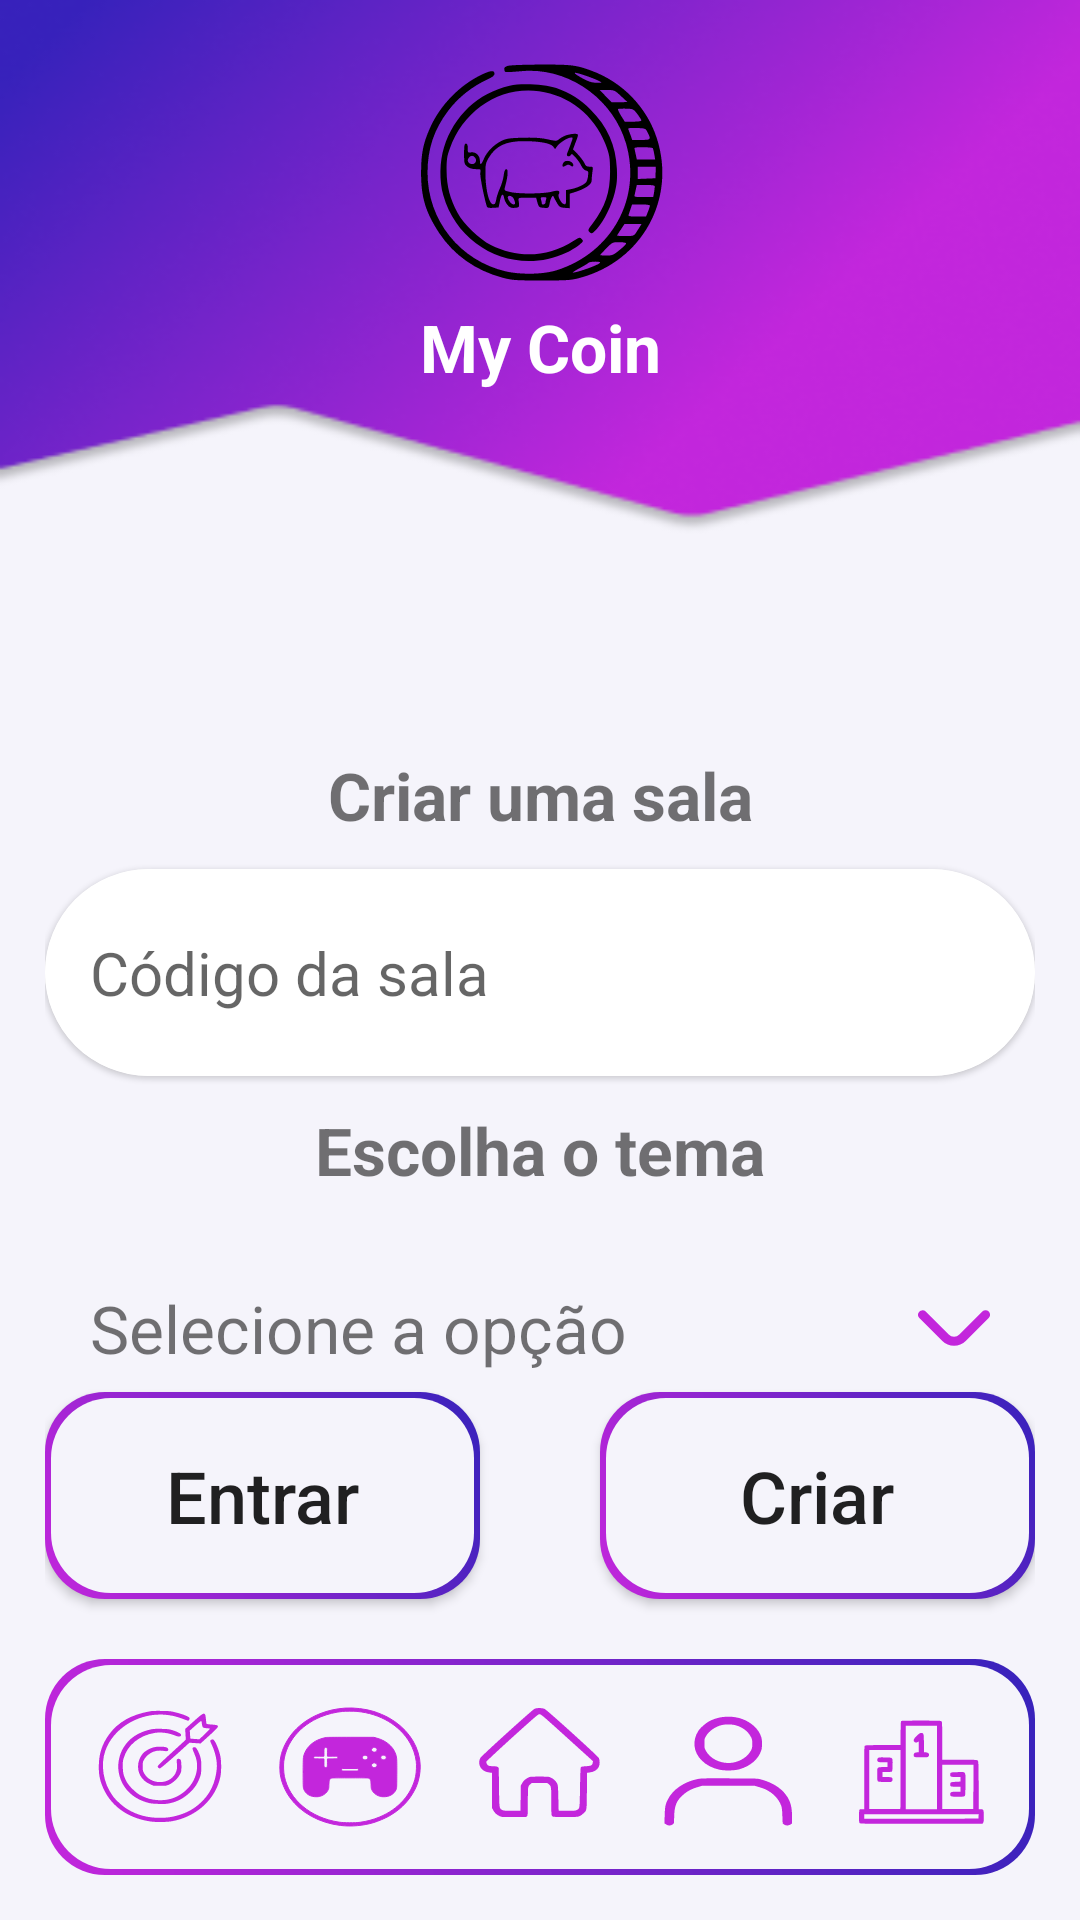

Icons on this 1080×1920 Android screen, each with its box as (x1, y1, x2, y2):
control: (279, 1707, 421, 1827)
home: (479, 1708, 600, 1817)
person: (664, 1716, 792, 1826)
ranking: (859, 1720, 984, 1824)
spinner arrow: (918, 1310, 990, 1346)
target: (98, 1710, 222, 1822)
